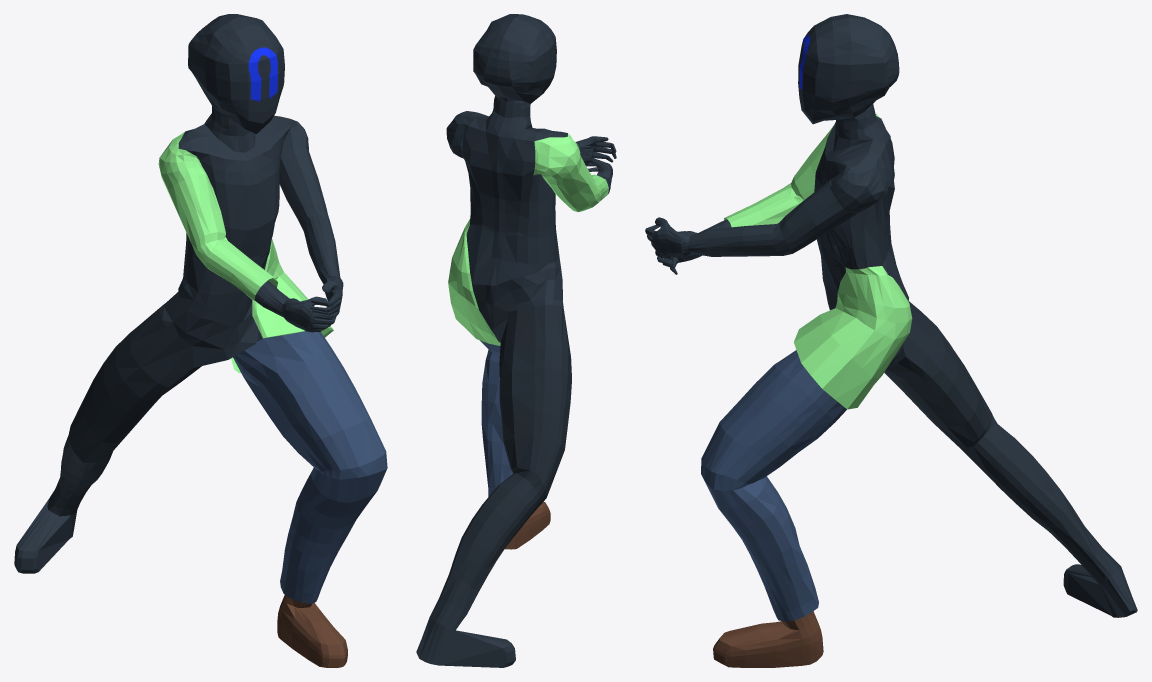
Rendered from Mar_WB_000014.obj.
3 renders of one model, left to right at view 1: azimuth 30°, elevation 25°; view 2: azimuth 150°, elevation 25°; view 3: azimuth 270°, elevation 25°, orthographic. The views are drawn at different scales.
Visible parts, largest first — view 1: Cube.000_Cube.001; view 2: Cube.000_Cube.001; view 3: Cube.000_Cube.001.
Boxes of the visible parts, <box> form: Cube.000_Cube.001: <box>14,14,387,667</box>; Cube.000_Cube.001: <box>416,14,616,667</box>; Cube.000_Cube.001: <box>645,14,1137,667</box>.
Size of the model in its own units: 1.16 by 3.48 by 2.48.
